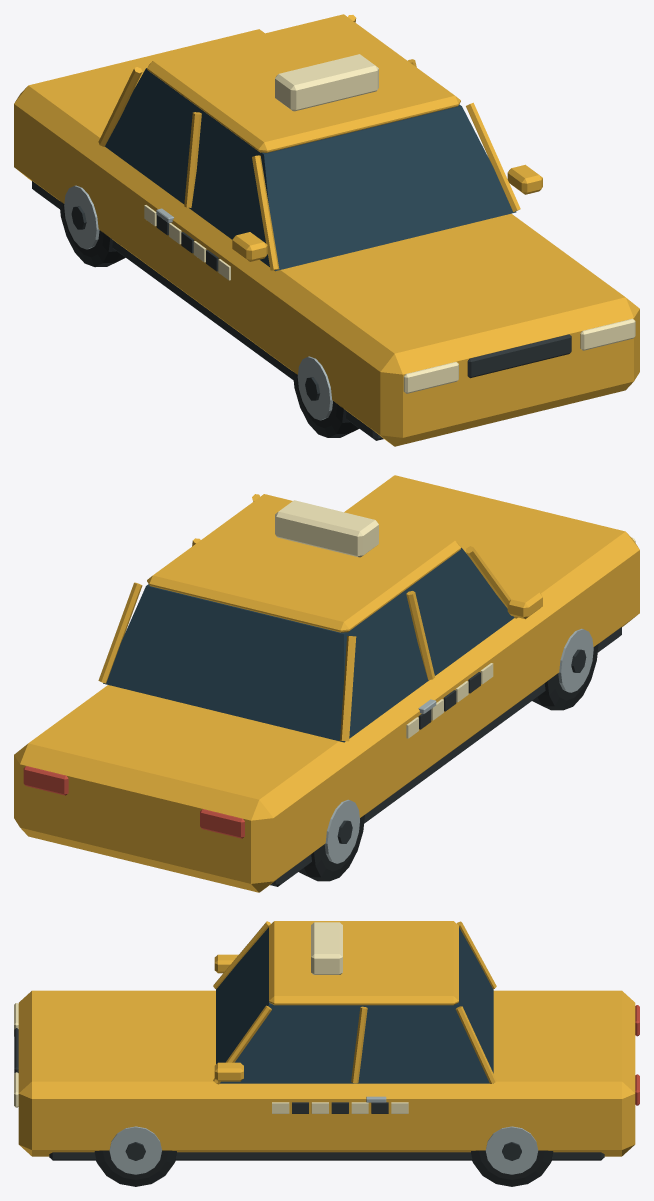
The model's file is taxi-sedan-01.glb.
3 renders of one model, top to bottom at view 1: azimuth 30°, elevation 25°; view 2: azimuth 150°, elevation 25°; view 3: azimuth 270°, elevation 25°, orthographic. The views are drawn at different scales.
Visible parts, largest first — view 1: Body, Glass, Roof, TaxiSign, Sill, FrontGrille, Rim_FR, Rim_RR, Tyre_FR, Tyre_RR, Lamp_Head, Lamp_Head.001 (+6 smaller); view 2: Body, Glass, Roof, TaxiSign, Sill, Rim_RR, Rim_FR, Tyre_RR, Tyre_FR, WindowPillar.002, WindowPillar.005, Lamp_Tail.001 (+4 smaller); view 3: Body, Glass, Roof, Sill, Rim_FL, Rim_RL, TaxiSign, Tyre_FL, Tyre_RL, WindowPillar.005, WindowPillar.004, WindowPillar.003 (+3 smaller).
Part boxes in pixels (bbox=[...]): Body: bbox=[14, 29, 639, 446]; Glass: bbox=[105, 68, 516, 271]; Roof: bbox=[147, 14, 460, 152]; TaxiSign: bbox=[275, 54, 378, 111]; Sill: bbox=[32, 181, 383, 440]; FrontGrille: bbox=[467, 334, 571, 378]; Rim_FR: bbox=[297, 356, 332, 420]; Rim_RR: bbox=[64, 185, 99, 249]; Tyre_FR: bbox=[292, 371, 359, 437]; Tyre_RR: bbox=[59, 201, 125, 267]; Lamp_Head: bbox=[403, 362, 458, 393]; Lamp_Head.001: bbox=[580, 318, 635, 350]; Body: bbox=[14, 475, 639, 892]; Glass: bbox=[103, 547, 514, 742]; Roof: bbox=[147, 494, 460, 632]; TaxiSign: bbox=[275, 500, 378, 557]; Sill: bbox=[270, 627, 621, 886]; Rim_RR: bbox=[324, 799, 359, 863]; Rim_FR: bbox=[558, 628, 593, 692]; Tyre_RR: bbox=[299, 815, 364, 881]; Tyre_FR: bbox=[532, 644, 598, 710]; WindowPillar.002: bbox=[340, 636, 356, 741]; WindowPillar.005: bbox=[98, 582, 142, 683]; Lamp_Tail.001: bbox=[23, 766, 68, 795]; Body: bbox=[18, 990, 635, 1156]; Glass: bbox=[216, 927, 493, 1083]; Roof: bbox=[269, 921, 458, 1005]; Sill: bbox=[49, 1152, 604, 1160]; Rim_FL: bbox=[109, 1126, 161, 1174]; Rim_RL: bbox=[485, 1126, 538, 1174]; TaxiSign: bbox=[311, 922, 342, 974]; Tyre_FL: bbox=[94, 1150, 176, 1186]; Tyre_RL: bbox=[471, 1150, 553, 1186]; WindowPillar.005: bbox=[455, 1006, 496, 1083]; WindowPillar.004: bbox=[351, 1006, 367, 1083]; WindowPillar.003: bbox=[213, 1005, 271, 1084].
Bounding box in the file's own units: 2.08 × 1.67 × 4.72.
